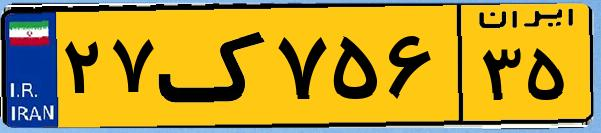2: (57, 26, 110, 100)
3: (475, 38, 525, 113)
5: (330, 28, 385, 110), (525, 38, 570, 115)
6: (385, 28, 445, 110)
7: (270, 28, 330, 110), (110, 28, 158, 98)
ک: (158, 12, 270, 120)
